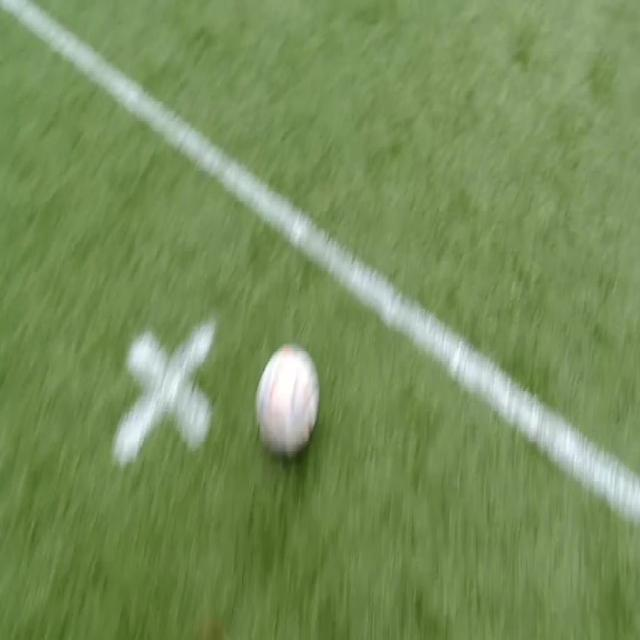ball: (256, 346, 320, 454)
